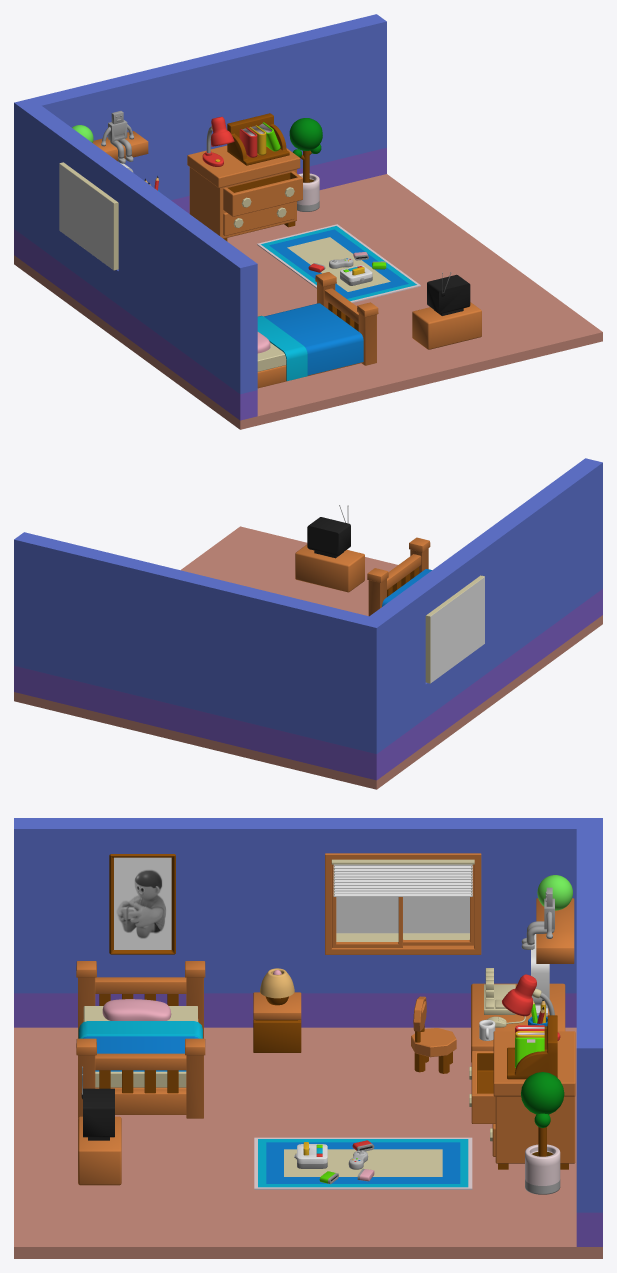
The model's file is oda1dene.fbx.
The picture shows the model from 3 angles, top to bottom: view 1: azimuth 30°, elevation 25°; view 2: azimuth 150°, elevation 25°; view 3: azimuth 270°, elevation 25°; orthographic projection. The views are drawn at different scales.
Parts seen in each view (by area): view 1: Cube, yatak, Cube.003, Cube.017, Cube.019, Cube.006, Cube.011, Cube.012, Icosphere, Cube.013, Cube.021, Cylinder.009 (+2 smaller); view 2: Cube, Cube.019, Cube.006, yatak, Cube.011; view 3: Cube, yatak, Cube.019, Cube.017, Cube.003, Cube.005, Cube.020, Cube.007, Cube.006, Cube.009, Cylinder.001, Cube.002 (+11 smaller).
Boxes of the visible parts, left/top/right/bottom form: Cube: left=14, top=14, right=602, bottom=429; yatak: left=257, top=272, right=378, bottom=388; Cube.003: left=187, top=145, right=302, bottom=238; Cube.017: left=257, top=224, right=420, bottom=302; Cube.019: left=59, top=162, right=118, bottom=270; Cube.006: left=412, top=302, right=481, bottom=349; Cube.011: left=427, top=274, right=470, bottom=315; Cube.012: left=227, top=113, right=289, bottom=165; Icosphere: left=289, top=118, right=322, bottom=157; Cube.013: left=239, top=122, right=280, bottom=157; Cube.021: left=308, top=252, right=386, bottom=285; Cylinder.009: left=297, top=150, right=319, bottom=211; Cube: left=14, top=458, right=602, bottom=789; Cube.019: left=425, top=575, right=484, bottom=683; Cube.006: left=295, top=544, right=364, bottom=592; yatak: left=367, top=537, right=431, bottom=616; Cube.011: left=307, top=517, right=350, bottom=558; Cube: left=14, top=818, right=602, bottom=1258; yatak: left=76, top=961, right=205, bottom=1118; Cube.019: left=325, top=853, right=481, bottom=954; Cube.017: left=254, top=1137, right=472, bottom=1189; Cube.003: left=471, top=1031, right=575, bottom=1163; Cube.005: left=109, top=854, right=175, bottom=954; Cube.020: left=333, top=864, right=472, bottom=896; Cube.007: left=253, top=992, right=301, bottom=1052; Cube.006: left=78, top=1116, right=121, bottom=1185; Cube.009: left=471, top=983, right=565, bottom=1062; Cylinder.001: left=411, top=996, right=456, bottom=1073; Cube.002: left=536, top=898, right=574, bottom=963.
Bounding box in the file's own units: 1.4 × 0.5901 × 1.5.
